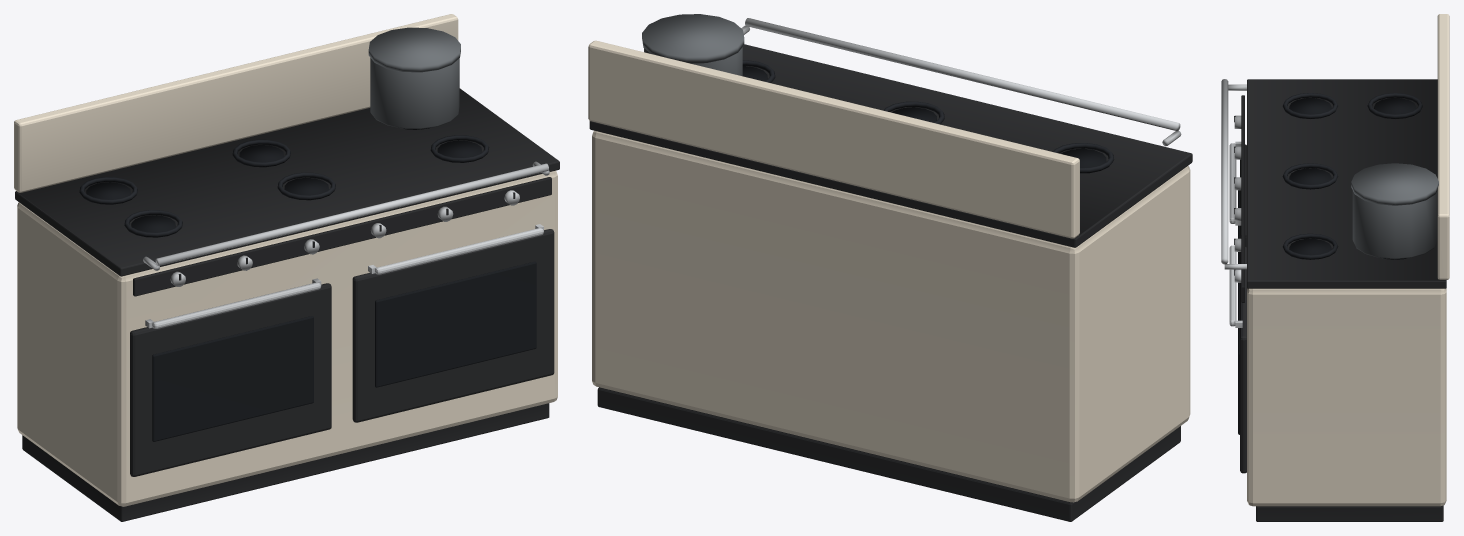
File: rangeCooker.glb
The picture shows the model from 3 angles, left to right: view 1: azimuth 30°, elevation 25°; view 2: azimuth 150°, elevation 25°; view 3: azimuth 270°, elevation 25°; orthographic projection. The views are drawn at different scales.
Parts seen in each view (by area): view 1: body, oven_door; view 2: body; view 3: body, oven_door.
Boxes of the visible parts, left/top/right/bottom form: body: left=14, top=14, right=559, bottom=521; oven_door: left=352, top=224, right=554, bottom=422; body: left=588, top=14, right=1192, bottom=521; body: left=1221, top=14, right=1449, bottom=521; oven_door: left=1229, top=245, right=1246, bottom=473.
Bounding box in the file's own units: 1.58 × 1.14 × 0.7544.
